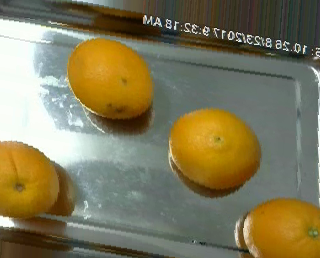Orange: (169, 107, 261, 190), (67, 39, 153, 119), (1, 139, 59, 217)
